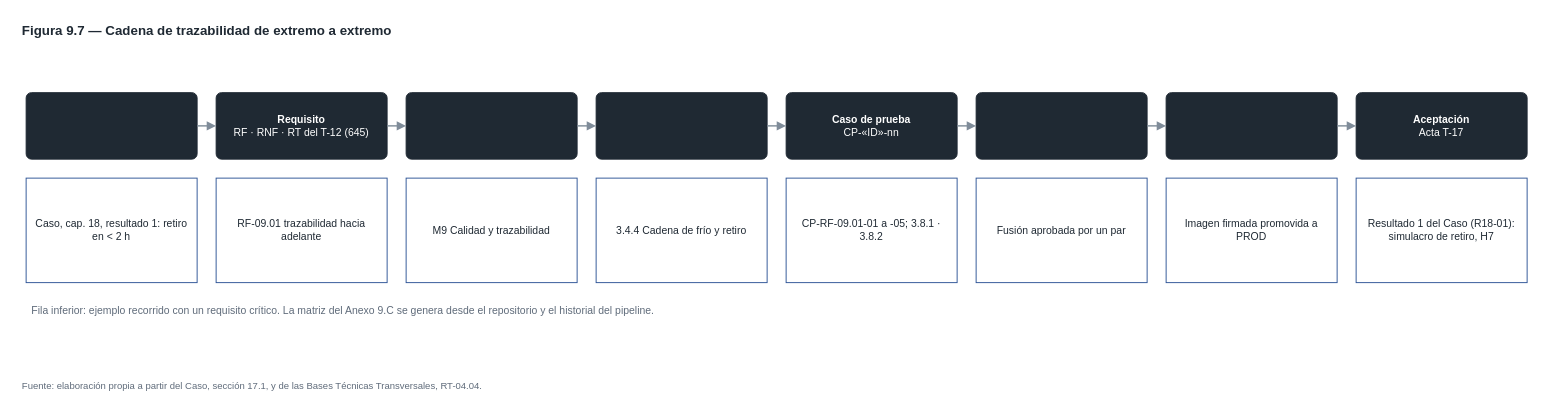
The diagram is 1552 pixels wide and 412 high, and some of its shapes have lost their labels. Here are the shapes that lost their labels. From the top down, the centre of each, then its label:
point (111, 125): Origen Párrafo del Caso o RT
point (491, 125): Componente M1–M12 · INT-01–15
point (681, 125): Paquete EDT Formulario T-14
point (1061, 125): Cambio Solicitud de fusión con el ID
point (1251, 125): Despliegue Digest de la imagen
